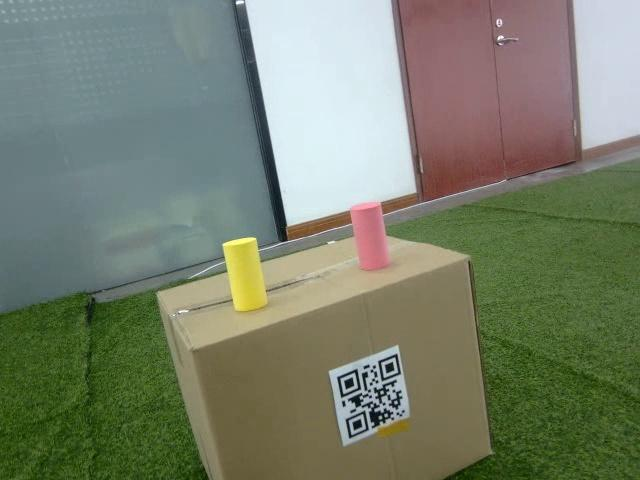red_cylinder: (350, 201, 390, 271)
yellow_cylinder: (222, 238, 268, 312)
